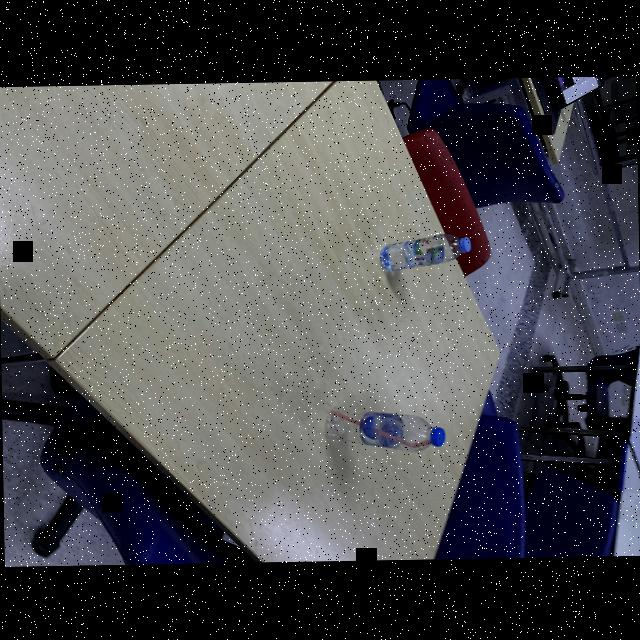plastic_bottle: (323, 401, 447, 453), (375, 232, 473, 272)
plastic_bottle_cap: (430, 424, 444, 446), (457, 234, 470, 251)
straw: (330, 407, 430, 449)
